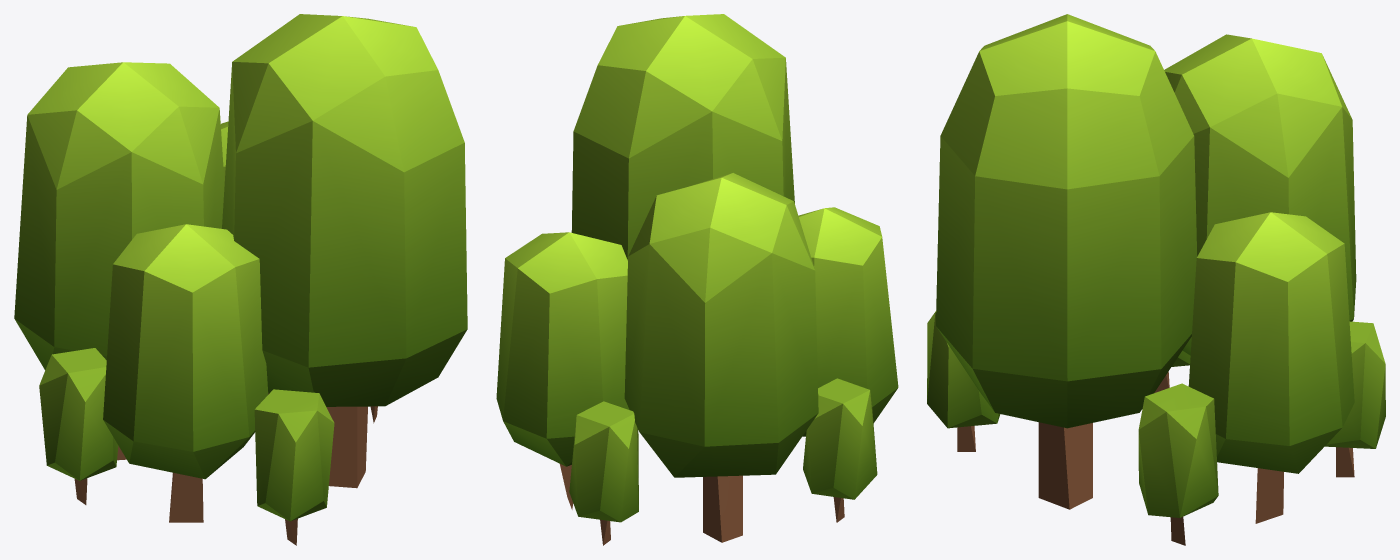
The model's file is Forest_3.obj.
The picture shows the model from 3 angles, left to right: view 1: azimuth 30°, elevation 25°; view 2: azimuth 150°, elevation 25°; view 3: azimuth 270°, elevation 25°; orthographic projection. The views are drawn at different scales.
Parts seen in each view (by area): view 1: Wood.002; view 2: Wood.002; view 3: Wood.002.
Part boxes in pixels (bbox=[...]): Wood.002: bbox=[14, 14, 467, 545]; Wood.002: bbox=[496, 14, 898, 545]; Wood.002: bbox=[927, 14, 1385, 545].
Size of the model in its own units: 0.9348 by 1.13 by 0.9716.
